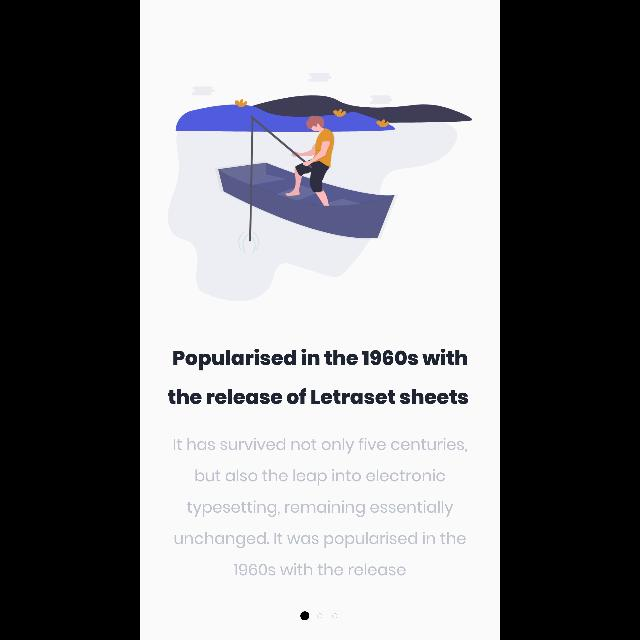image: (168, 72, 472, 302)
pageindicator: (300, 611, 338, 621)
text: (173, 438, 467, 576), (168, 347, 468, 405)
